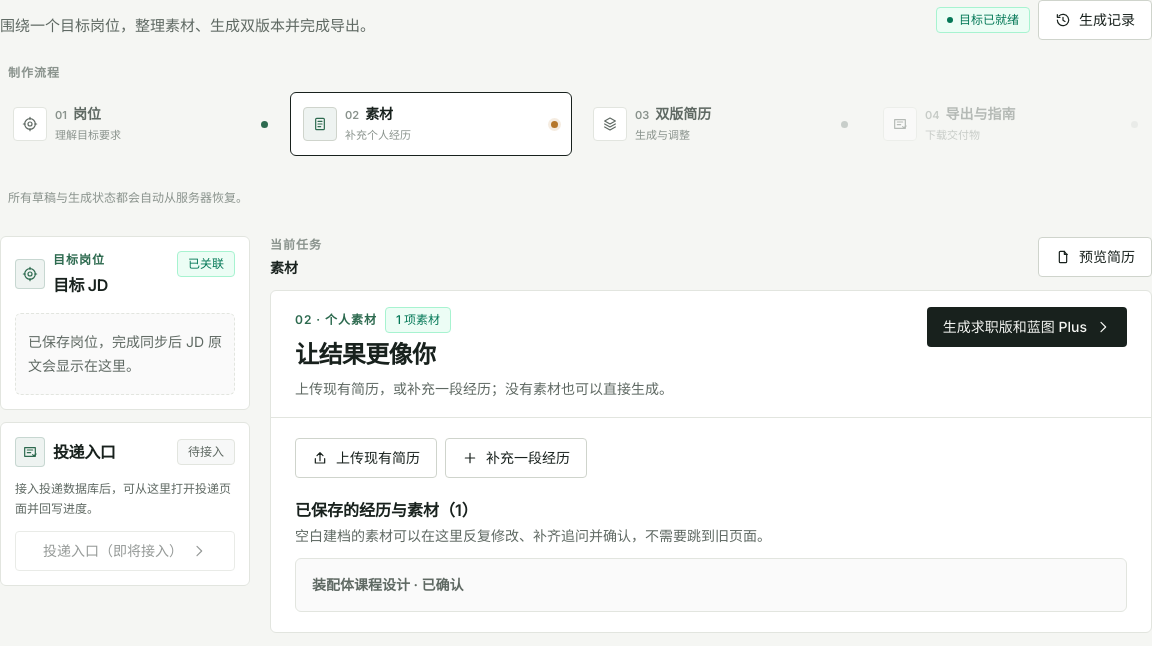
Test: 无旧简历也可生成，并轮询 queued 状态
This screenshot has width=1152, height=646.
What coordinates should you click on to do the following:
click the button "生成求职版和蓝图 Plus"
I would click on:
 (1027, 327)
Its box is x1=927 y1=307 x2=1127 y2=347.
(page scrolled)
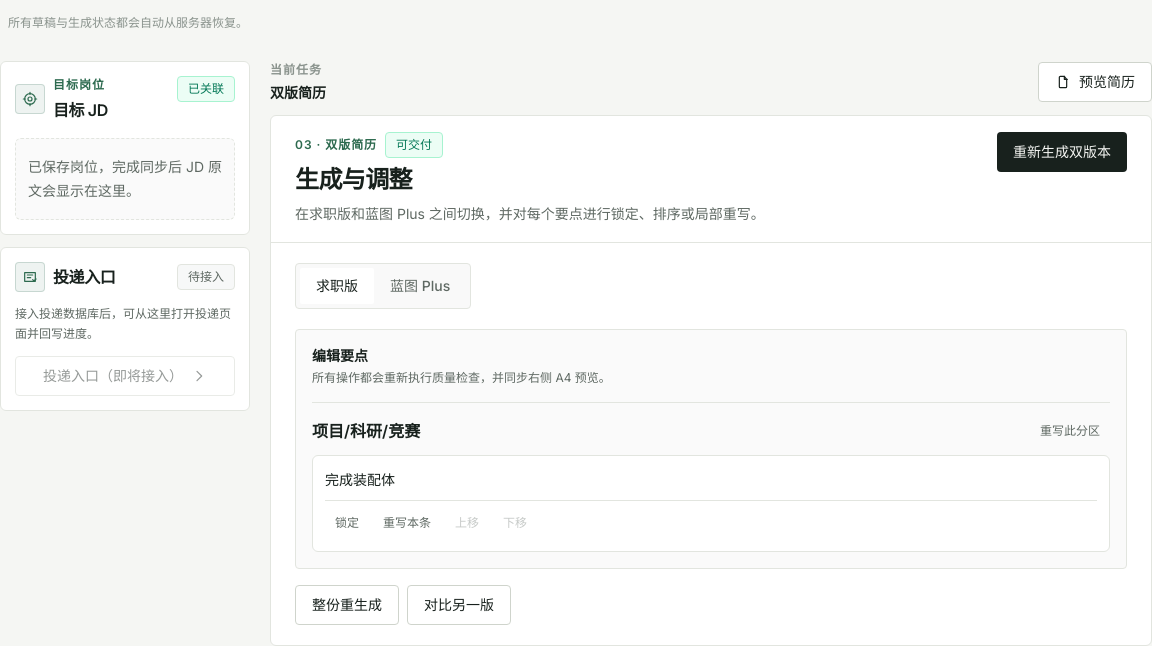
Now the text "完成装配体" is shown, box x1=325 y1=471 x2=395 y2=488
